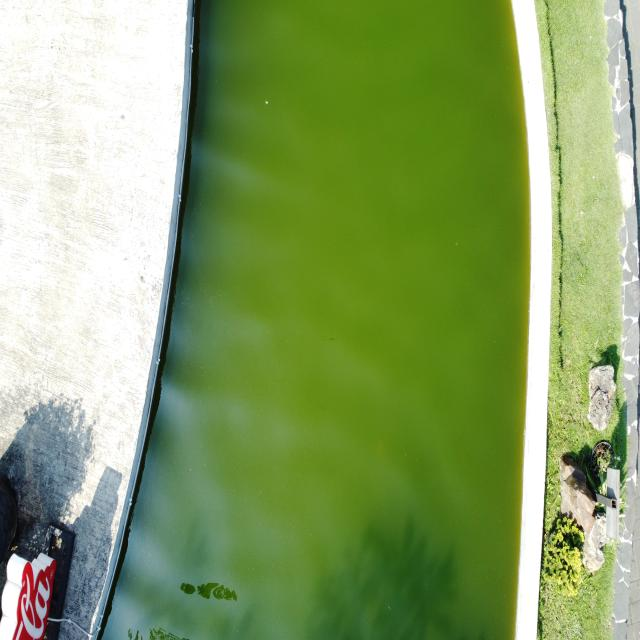Ponds: (69, 2, 557, 638)
